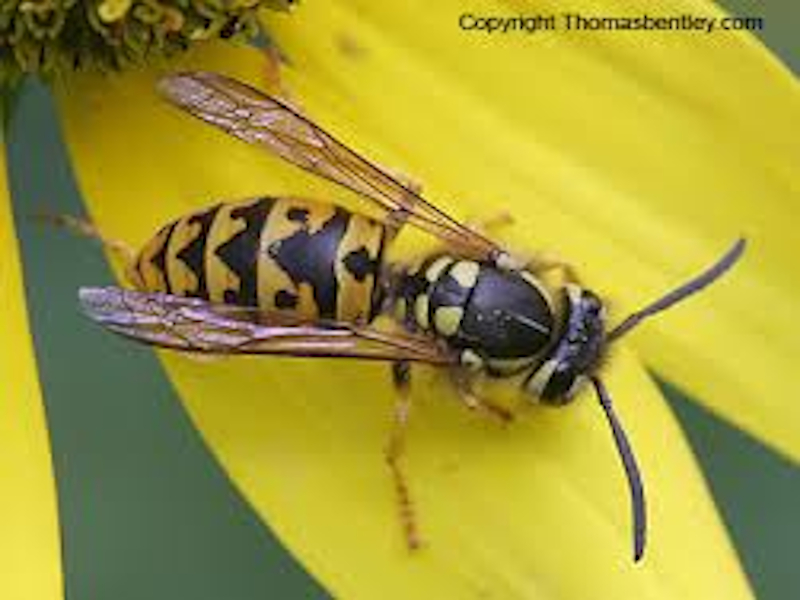chax: (73, 64, 768, 576)
